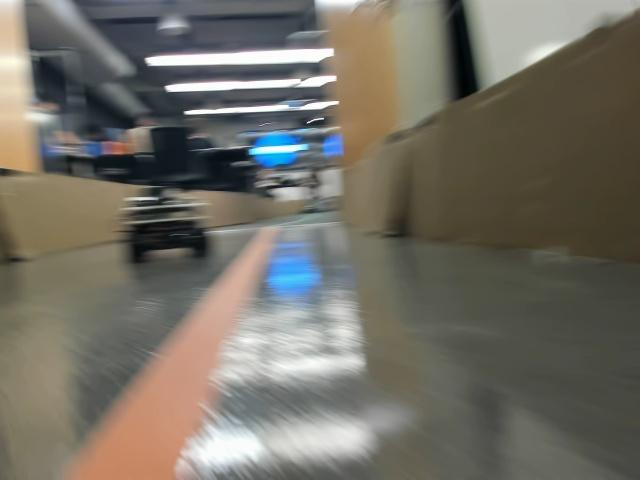Car: (115, 189, 211, 262)
